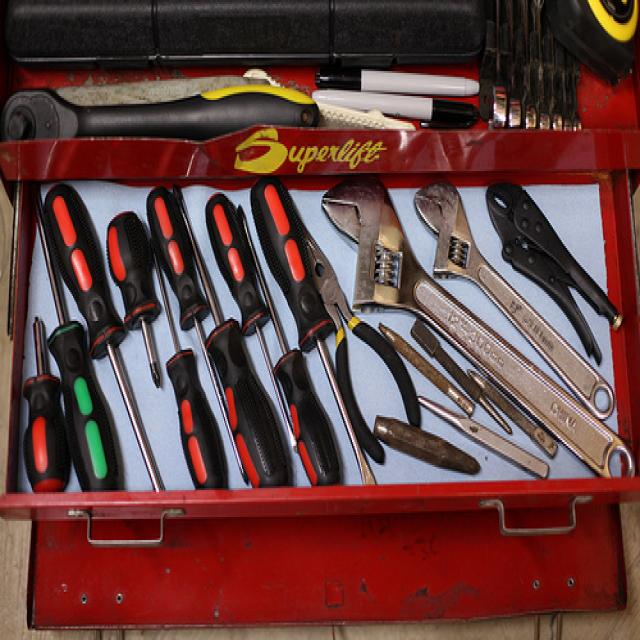wrench: (311, 154, 481, 334), (414, 155, 514, 320)
